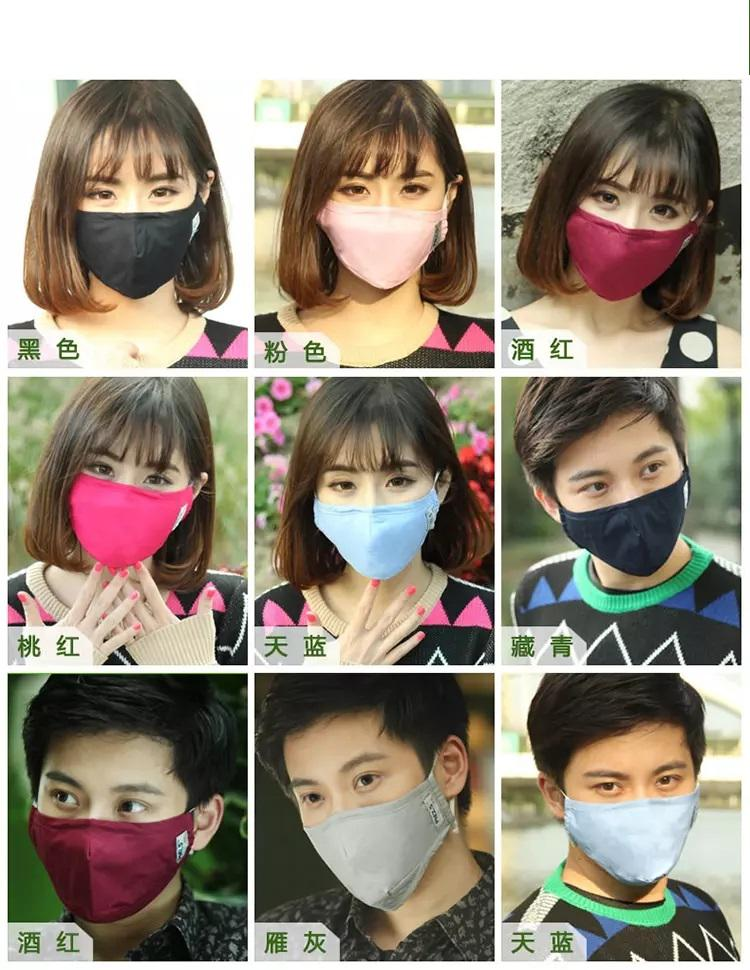OK: (29, 757, 192, 920), (292, 745, 442, 904), (553, 434, 699, 580), (562, 163, 707, 308), (565, 748, 706, 889), (70, 163, 205, 298), (311, 157, 444, 290), (55, 436, 188, 569), (317, 446, 448, 577)
